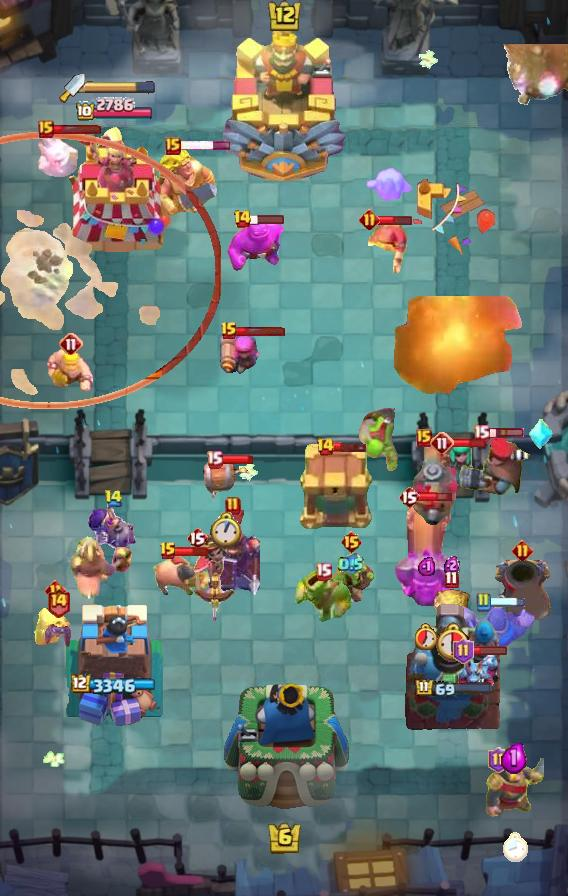bar: (179, 140, 232, 151), (236, 326, 286, 337), (52, 124, 102, 135), (418, 490, 453, 503), (489, 596, 526, 608), (488, 427, 525, 439), (332, 441, 368, 453), (249, 213, 285, 225), (452, 437, 487, 449), (378, 214, 413, 226), (471, 645, 508, 656), (175, 546, 209, 557), (220, 454, 254, 465)
bar-level: (46, 587, 71, 618), (430, 431, 454, 455), (59, 332, 83, 356), (340, 530, 363, 554), (488, 747, 509, 773), (453, 638, 474, 664), (186, 526, 208, 550), (398, 485, 420, 509), (45, 580, 66, 601), (512, 540, 533, 561), (359, 209, 380, 230), (316, 437, 335, 457), (233, 209, 252, 229), (104, 489, 123, 508), (159, 541, 177, 561), (220, 321, 238, 341), (315, 562, 332, 581), (206, 450, 223, 469), (473, 424, 490, 443), (475, 592, 491, 612), (225, 496, 241, 516), (416, 429, 432, 447), (165, 137, 181, 155), (38, 120, 54, 138), (444, 570, 459, 589)
barbarian: (46, 349, 96, 393)
bat: (42, 622, 74, 650)
bomber-evolution: (86, 506, 140, 556)
cannoneer-tower: (403, 601, 503, 731)
clock: (432, 621, 470, 662), (210, 512, 242, 549), (501, 831, 528, 862), (415, 623, 438, 650)
dagger-duchess-tower: (55, 126, 173, 256)
dagger-duchess-tower-bar: (85, 81, 155, 95)
elixir: (501, 741, 527, 774), (338, 553, 364, 576), (418, 556, 435, 576), (444, 555, 459, 576)
elixir-golem-mid: (225, 219, 289, 273)
firecracker: (219, 329, 265, 379)
goblin: (327, 558, 375, 604)
goblin-ball: (357, 408, 407, 474)
goblin-brawler: (295, 571, 351, 625)
heal-spirit: (34, 604, 76, 648)
hunter: (456, 437, 532, 497)
ice-spirit: (36, 131, 80, 177)
ice-spirit-evolution: (364, 167, 414, 205)
ice-spirit-evolution-symbol: (528, 418, 554, 450)
king-tower: (220, 21, 348, 181), (220, 678, 349, 826)
knight: (454, 605, 540, 657), (484, 758, 544, 818)
lava-pup: (431, 588, 471, 618)
little-prince: (190, 534, 238, 626)
minion: (454, 649, 498, 695)
mortar: (491, 555, 553, 623)
queen-tower: (62, 599, 167, 731)
rascal-girl: (433, 441, 477, 491)
royal-hog: (153, 554, 211, 598)
tower-bar: (75, 97, 154, 123), (71, 674, 158, 696), (414, 678, 493, 699)
wall-breaker: (201, 459, 251, 501)
wizard: (358, 217, 408, 273)
